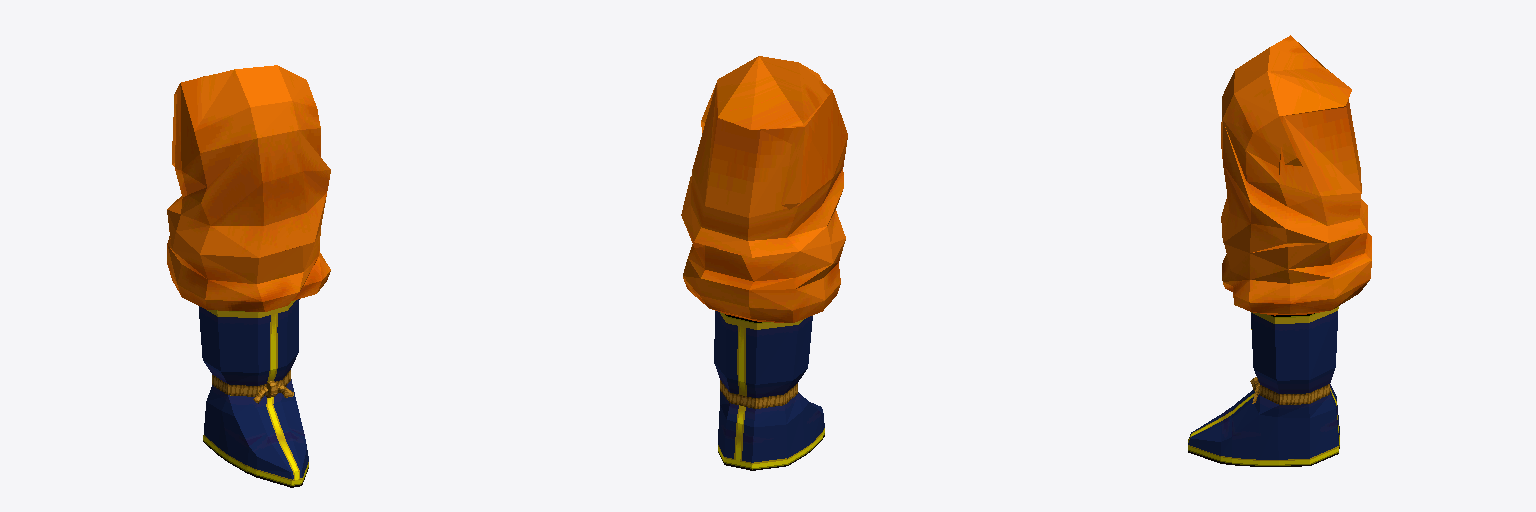
3 views of the same model, side by side, from view 1: azimuth 30°, elevation 25°; view 2: azimuth 150°, elevation 25°; view 3: azimuth 270°, elevation 25° (orthographic).
Visible parts, largest first — view 1: Mesh.404_DrawCall_231; view 2: Mesh.404_DrawCall_231; view 3: Mesh.404_DrawCall_231.
Part boxes in pixels (bbox=[...]): Mesh.404_DrawCall_231: bbox=[167, 65, 330, 487]; Mesh.404_DrawCall_231: bbox=[681, 56, 847, 470]; Mesh.404_DrawCall_231: bbox=[1188, 35, 1371, 466].
Size of the model in its own units: 6.76 by 17.06 by 7.25.
Materials: 2 (2 with a texture image).